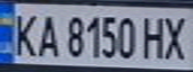0: (115, 13, 142, 60)
1: (81, 11, 103, 58)
5: (100, 12, 121, 60)
8: (63, 11, 84, 58)
A: (33, 10, 63, 58)
H: (139, 12, 169, 60)
K: (6, 9, 42, 58)
X: (160, 11, 193, 61)
